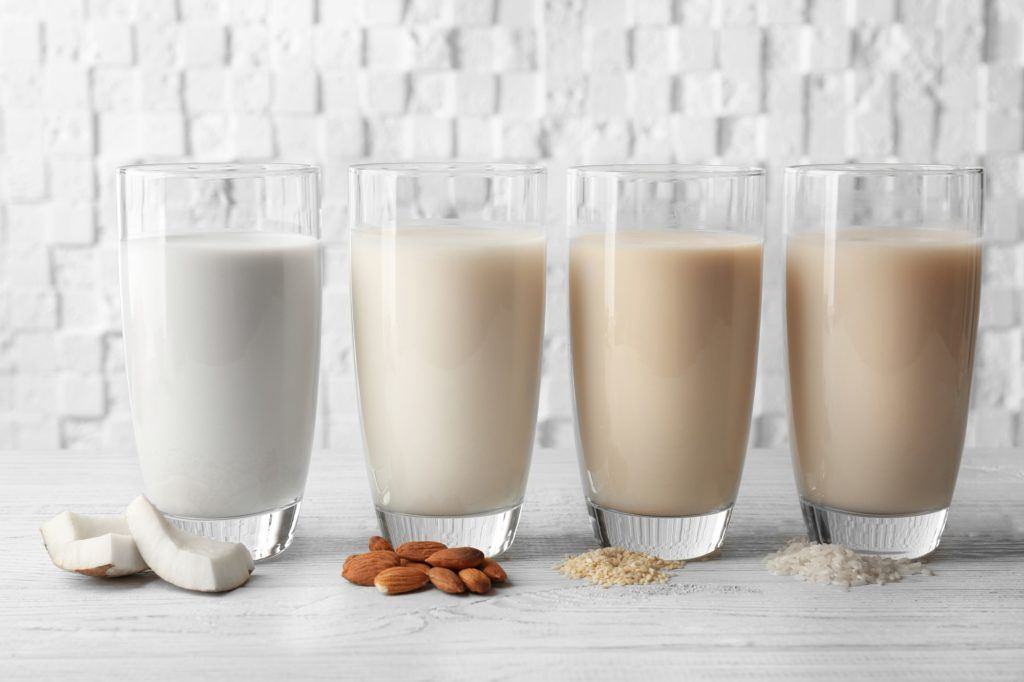produk_susu: (793, 174, 954, 530), (125, 170, 296, 505), (365, 167, 526, 504), (593, 184, 733, 520)
